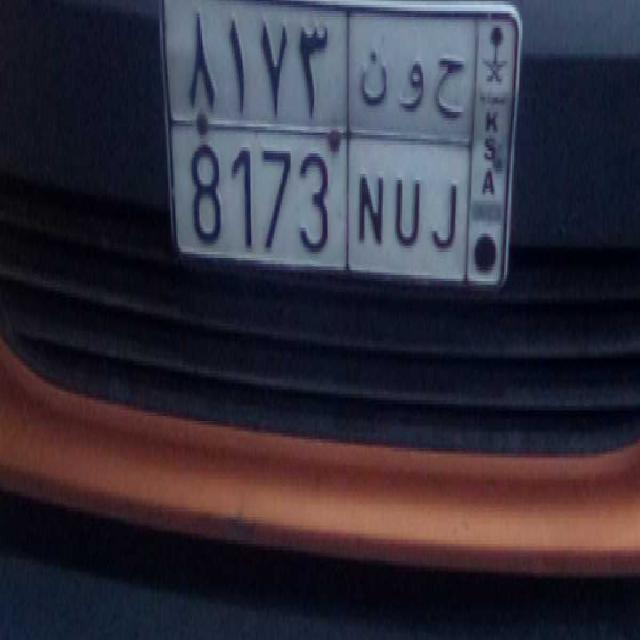license_plate: (177, 124, 467, 274)
